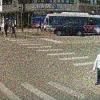buses: (43, 11, 100, 36)
